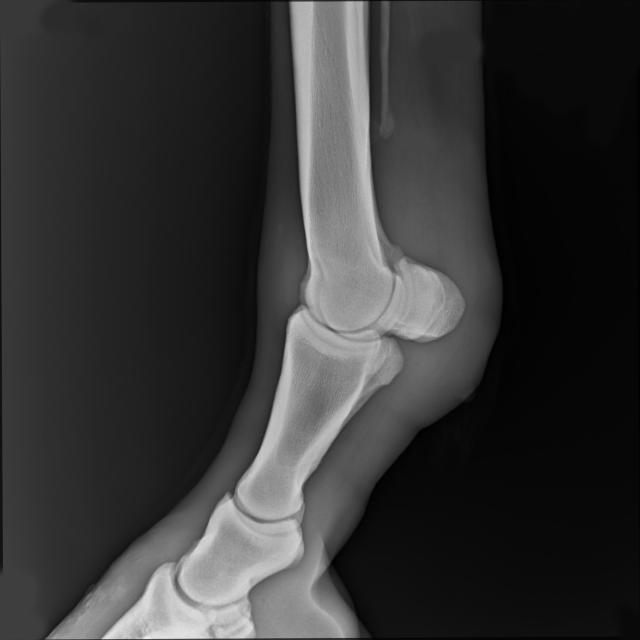joint-ht8A: (266, 199, 484, 425)
